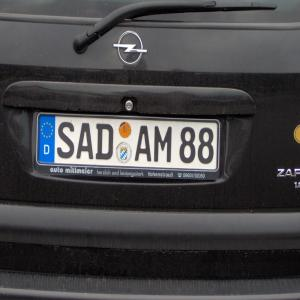Vehicle-registration-plate: (37, 114, 221, 182)
